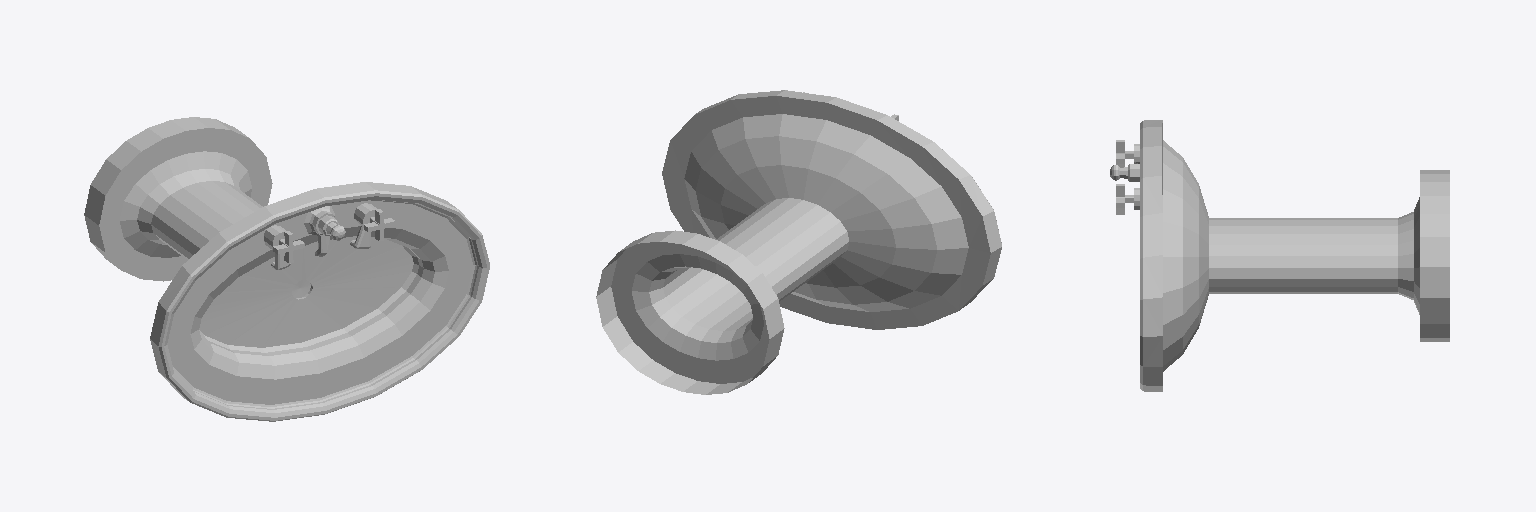
File: Sink.obj
The picture shows the model from 3 angles: view 1: azimuth 30°, elevation 25°; view 2: azimuth 150°, elevation 25°; view 3: azimuth 270°, elevation 25°; orthographic projection.
Parts seen in each view (by area): view 1: Sink; view 2: Sink; view 3: Sink.
Boxes of the visible parts, x1=… form: Sink: x1=84, y1=117, x2=489, y2=421; Sink: x1=596, y1=90, x2=1001, y2=394; Sink: x1=1110, y1=120, x2=1449, y2=391.
Bounding box in the file's own units: 7.95 × 5.04 × 7.06.